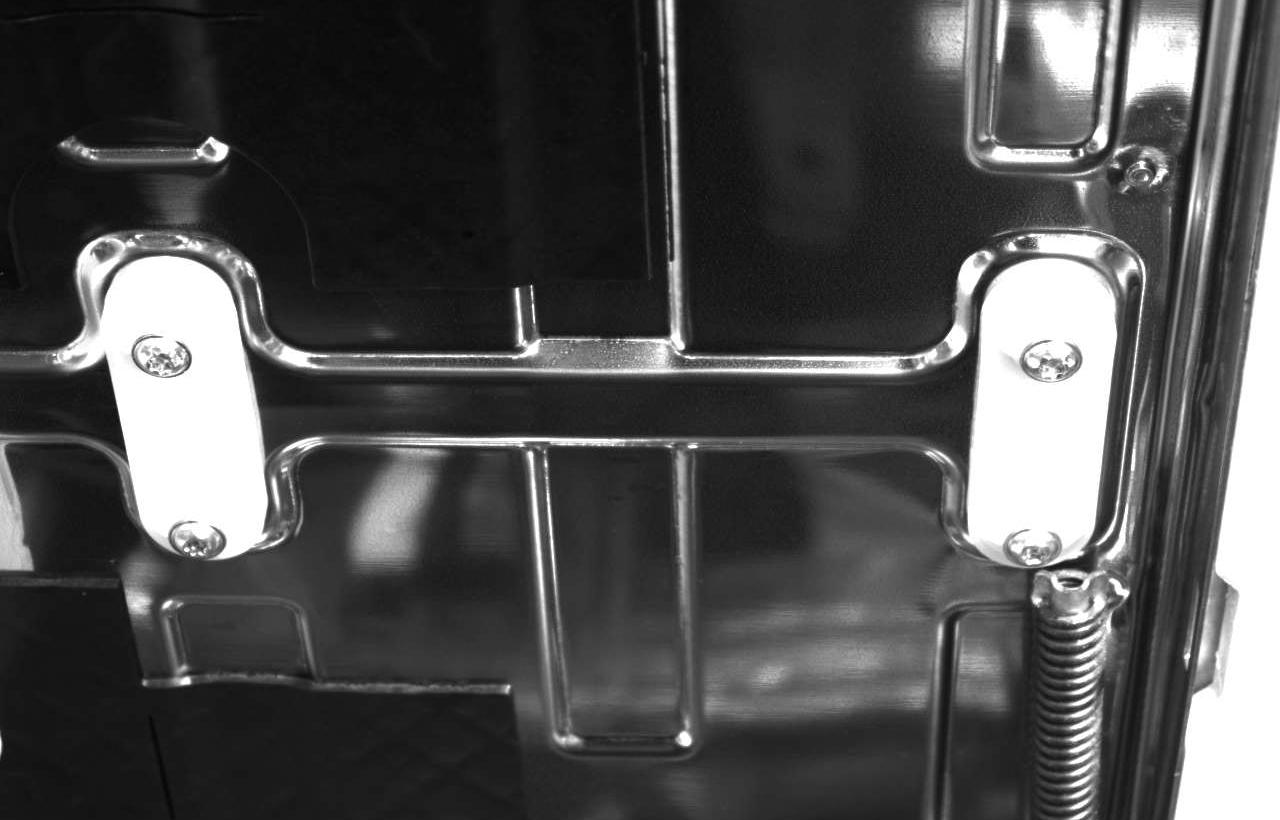vida-ok: (117, 319, 204, 397), (1006, 312, 1094, 385), (158, 509, 239, 573), (993, 506, 1069, 565)
